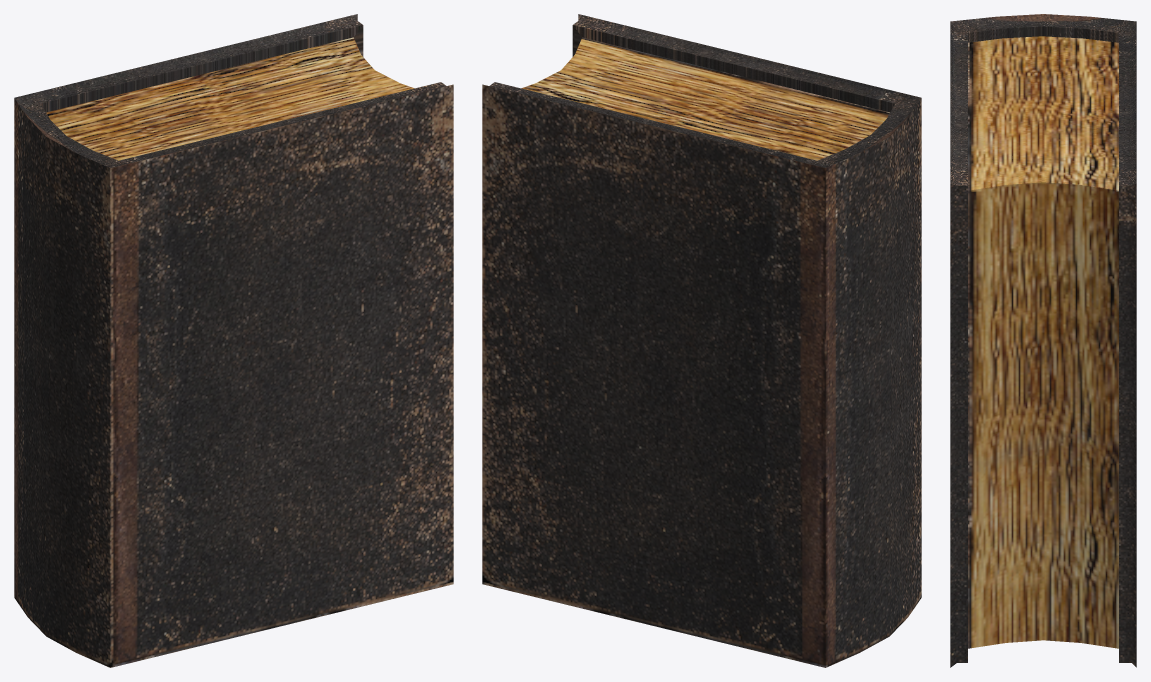
File: Book2.FBX
The picture shows the model from 3 angles, left to right: view 1: azimuth 30°, elevation 25°; view 2: azimuth 150°, elevation 25°; view 3: azimuth 270°, elevation 25°; orthographic projection. The views are drawn at different scales.
Parts seen in each view (by area): view 1: Box03; view 2: Box03; view 3: Box03.
Part boxes in pixels (box(x1,y1,x2,y2)): Box03: box(14, 14, 453, 667); Box03: box(482, 14, 921, 667); Box03: box(950, 14, 1136, 667).
Bounding box in the file's own units: 93.89 × 125 × 43.54.
1 material, 1 textured.
